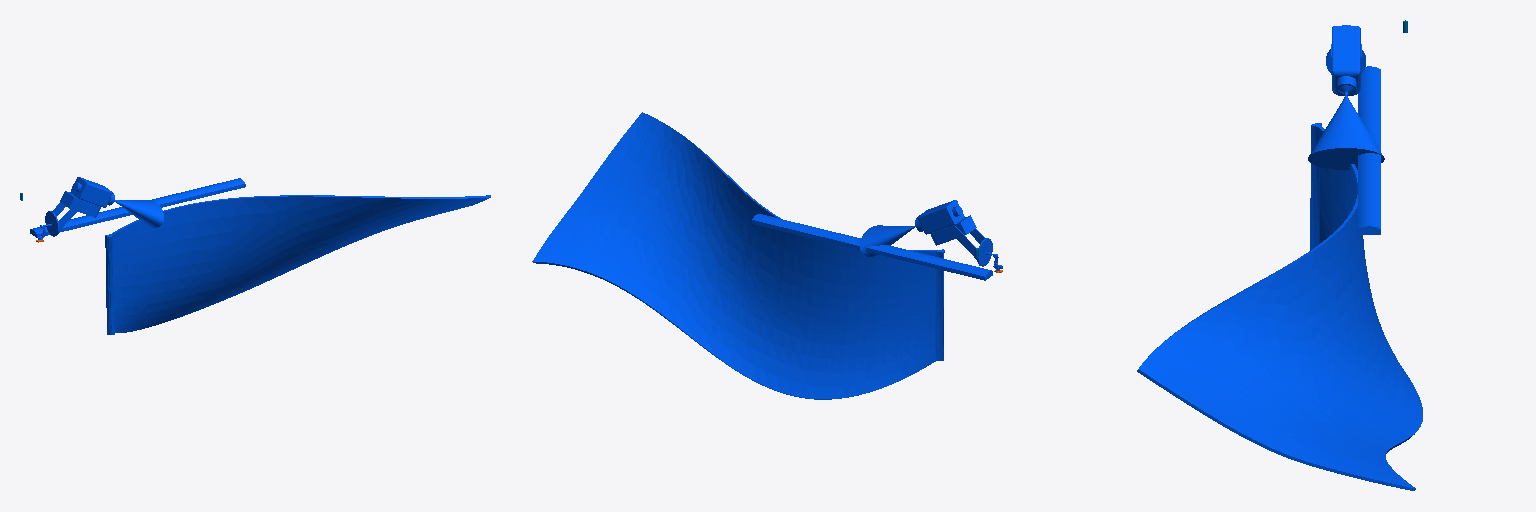
URDF robot description (combined):
<?xml version="1.0" encoding="utf-8"?>
<!-- =================================================================================== -->
<!-- |    This document was autogenerated by xacro from ur5_robot.urdf.xacro           | -->
<!-- |    EDITING THIS FILE BY HAND IS NOT RECOMMENDED                                 | -->
<!-- =================================================================================== -->
<robot name="combined">
  <!--robots pose-->
  <link name="world"/>

  <joint name="abb_6640_180_255_pose" type="fixed">
    <parent link="world"/>
    <child link="ABB_6640_180_255_base_link"/>
    <origin rpy="0.0 0.0 0.0" xyz="0 0 0.0"/><!--abb_6640_180_255 pedestal-->
  </joint>

  <joint name="abb_1200_5_90_pose" type="fixed">
    <parent link="world"/>
    <child link="abb_1200_5_90_pedestal"/>
    <origin rpy="0.0 0.0 0.0" xyz="0 5.0 5.0"/><!--abb_1200_5_90 pedestal-->
  </joint>

  <joint name="curve_1_pose" type="fixed">
    <parent link="world"/>
    <child link="curve_1_base_link"/>
    <origin rpy="0.0 0.0 0.0" xyz="0 2.0 0.0"/><!--abb_1200_5_90 pedestal-->
  </joint>
  <joint name="curve_2_pose" type="fixed">
    <parent link="world"/>
    <child link="curve_2_base_link"/>
    <origin rpy="0.0 0.0 0.0" xyz="0 -2.0 0.0"/><!--abb_1200_5_90 pedestal-->
  </joint>


  <!--curve_1 part-->
  <link name="curve_1_base_link">
    <!-- <collision>
      <origin rpy="0 0 0" xyz="-.124 0 .12"/>
      <geometry>
        <box size="1.016 .729 .24"/>
      </geometry>
    </collision> -->
    <visual name="visual">
      <geometry>
        <mesh filename="model://curve_1/meshes/wood.stl" scale="0.032 0.032 0.032"/>
      </geometry>
      <material name="orange">
        <color rgba=".04 .42 1 1"/>
      </material>
    </visual>
    <inertial>
      <origin rpy="0 0 0" xyz="0 0 .107 "/>
      <mass value="254.138"/>
      <inertia ixx="9.459" ixy="-.018" ixz="-.297" iyy="9.18" iyz=".003" izz="16.946"/>
    </inertial>
  </link>

  <!--curve_2 part-->
  <link name="curve_2_base_link">
    <!-- <collision>
      <origin rpy="0 0 0" xyz="-.124 0 .12"/>
      <geometry>
        <box size="1.016 .729 .24"/>
      </geometry>
    </collision> -->
    <visual name="visual">
      <geometry>
        <mesh filename="model://curve_2/meshes/generic_fan_blade.stl" scale="0.032 0.032 0.032"/>
      </geometry>
      <material name="orange">
        <color rgba=".04 .42 1 1"/>
      </material>
    </visual>
    <inertial>
      <origin rpy="0 0 0" xyz="0 0 .107 "/>
      <mass value="254.138"/>
      <inertia ixx="9.459" ixy="-.018" ixz="-.297" iyy="9.18" iyz=".003" izz="16.946"/>
    </inertial>
  </link>

  <!--abb_6640_180_255 part-->
  <link name="ABB_6640_180_255_base_link">
    <collision>
      <origin rpy="0 0 0" xyz="-.124 0 .12"/>
      <geometry>
        <box size="1.016 .729 .24"/>
      </geometry>
    </collision>
    <visual name="visual">
      <geometry>
        <mesh filename="model://abb_6640_180_255/meshes/visual/Base.stl"/>
      </geometry>
      <material name="orange">
        <color rgba="1 .42 .04 1"/>
      </material>
    </visual>
    <inertial>
      <origin rpy="0 0 0" xyz="0 0 .107 "/>
      <mass value="254.138"/>
      <inertia ixx="9.459" ixy="-.018" ixz="-.297" iyy="9.18" iyz=".003" izz="16.946"/>
    </inertial>
  </link>
  <link name="ABB_6640_180_255_link_1">
    <collision>
      <origin rpy="0 0 0" xyz="0 0 -.434"/>
      <geometry>
        <cylinder length=".224" radius=".309"/>
      </geometry>
    </collision>
    <collision>
      <origin rpy="1.571 0 0" xyz=".32 .302 0"/>
      <geometry>
        <cylinder length=".226" radius=".107"/>
      </geometry>
    </collision>
    <collision>
      <origin rpy="0 0 0" xyz="-.127 .127 -.215"/>
      <geometry>
        <cylinder length=".214" radius=".118"/>
      </geometry>
    </collision>
    <collision>
      <origin rpy="0 0 0" xyz="-.278 -.197 -.261"/>
      <geometry>
        <box size=".31 .528 .368"/>
      </geometry>
    </collision>
    <collision>
      <origin rpy="3.142 0 3.142" xyz="-.263 -.183 -.168"/>
      <geometry>
        <box size=".628 .387 .556"/>
      </geometry>
    </collision>
    <collision>
      <origin rpy="0 0 0" xyz=".238 .025 -.371"/>
      <geometry>
        <box size=".436 .328 .192"/>
      </geometry>
    </collision>
    <collision>
      <origin rpy="0 0 0" xyz=".32 .025 -.008"/>
      <geometry>
        <box size=".518 .328 .534"/>
      </geometry>
    </collision>
    <visual name="visual">
      <origin rpy="0 0 0" xyz="0 0 -.78"/>
      <geometry>
        <mesh filename="model://abb_6640_180_255/meshes/visual/Link1.stl"/>
      </geometry>
      <material name="orange"/>
    </visual>
    <visual name="visual2">
      <origin rpy="0 0 0" xyz="0 0 -.78"/>
      <geometry>
        <mesh filename="model://abb_6640_180_255/meshes/visual/LinkD1.stl"/>
      </geometry>
      <material name="orange"/>
    </visual>
    <inertial>
      <origin rpy="0 0 0" xyz="-.011 -.038 -.214 "/>
      <mass value="469.323"/>
      <inertia ixx="29.062" ixy="11.518" ixz="3.154" iyy="50.561" iyz="-.943" izz="46.087"/>
    </inertial>
  </link>
  <link name="ABB_6640_180_255_link_2">
    <collision>
      <origin rpy="1.571 0 0" xyz="-.015 -.295 .522"/>
      <geometry>
        <box size=".538 1.429 .311"/>
      </geometry>
    </collision>
    <collision>
      <origin rpy="1.571 0 0" xyz=".092 -.111 .22"/>
      <geometry>
        <box size=".251 .169 .058"/>
      </geometry>
    </collision>
    <visual name="visual">
      <origin rpy="0 0 0" xyz="-.32 0 -.78"/>
      <geometry>
        <mesh filename="model://abb_6640_180_255/meshes/visual/Link2.stl"/>
      </geometry>
      <material name="orange"/>
    </visual>
    <inertial>
      <origin rpy="0 0 0" xyz=".007 -.174 .441 "/>
      <mass value="153.009"/>
      <inertia ixx="37.57" ixy="-.08" ixz="-.145" iyy="37.47" iyz="-5.325" izz="3.526"/>
    </inertial>
  </link>
  <link name="ABB_6640_180_255_link_3">
    <collision>
      <origin rpy="0 1.571 0" xyz=".017 .249 .14"/>
      <geometry>
        <box size=".14 .14 .262"/>
      </geometry>
    </collision>
    <collision>
      <origin rpy="1.571 0 3.142" xyz="0 -.17 0"/>
      <geometry>
        <cylinder length=".135" radius=".238"/>
      </geometry>
    </collision>
    <collision>
      <origin rpy="1.571 0 0" xyz="0 .018 0"/>
      <geometry>
        <cylinder length=".242" radius=".118"/>
      </geometry>
    </collision>
    <collision>
      <origin rpy="0 1.571 0" xyz="-.2 .077 .19"/>
      <geometry>
        <box size=".405 .534 .171"/>
      </geometry>
    </collision>
    <collision>
      <origin rpy="0 1.571 0" xyz=".061 0 .2"/>
      <geometry>
        <cylinder length=".35" radius=".166"/>
      </geometry>
    </collision>
    <collision>
      <origin rpy="1.571 0 0" xyz="-.187 -.051 -.029"/>
      <geometry>
        <box size=".052 .085 .102"/>
      </geometry>
    </collision>
    <collision>
      <origin rpy="1.571 0 0" xyz=".178 -.051 .015"/>
      <geometry>
        <box size=".052 .109 .102"/>
      </geometry>
    </collision>
    <visual name="visual">
      <origin rpy="0 0 0" xyz="-.32 0 -1.855"/>
      <geometry>
        <mesh filename="model://abb_6640_180_255/meshes/visual/Link3.stl"/>
      </geometry>
      <material name="orange"/>
    </visual>
    <inertial>
      <origin rpy="0 0 0" xyz="-.045 .022 .139 "/>
      <mass value="212.29"/>
      <inertia ixx="6.575" ixy="-1.029" ixz="-.621" iyy="6.667" iyz=".976" izz="7.699"/>
    </inertial>
  </link>
  <link name="ABB_6640_180_255_link_4">
    <collision>
      <origin rpy="1.571 0 0" xyz="1.1425 -.139 0"/>
      <geometry>
        <cylinder length=".092" radius=".139"/>
      </geometry>
    </collision>
    <collision>
      <origin rpy="1.571 0 0" xyz="1.068 -.139 0"/>
      <geometry>
        <box size=".145 .278 .092"/>
      </geometry>
    </collision>
    <collision>
      <origin rpy="1.571 0 0" xyz="1.1425 .138 0"/>
      <geometry>
        <cylinder length=".075" radius=".139"/>
      </geometry>
    </collision>
    <collision>
      <origin rpy="0 1.571 0" xyz=".21 0 0"/>
      <geometry>
        <cylinder length=".98" radius=".122"/>
      </geometry>
    </collision>
    <collision>
      <origin rpy="1.571 0 0" xyz="1.068 .138 0"/>
      <geometry>
        <box size=".145 .278 .075"/>
      </geometry>
    </collision>
    <collision>
      <origin rpy="0 1.571 0" xyz=".83 -.005 0"/>
      <geometry>
        <box size=".278 .36 .331"/>
      </geometry>
    </collision>
    <visual name="visual">
      <origin rpy="0 0 0" xyz="-.32 0 -2.055"/>
      <geometry>
        <mesh filename="model://abb_6640_180_255/meshes/visual/Link4.stl"/>
      </geometry>
      <material name="orange"/>
    </visual>
    <inertial>
      <origin rpy="0 0 0" xyz=".606 -.008 0 "/>
      <mass value="185.22"/>
      <inertia ixx="1.744" ixy="-.722" ixz=".014" iyy="30.392" iyz="-.005" izz="31.078"/>
    </inertial>
  </link>
  <link name="ABB_6640_180_255_link_5">
    <collision>
      <origin rpy="-.697 -1.571 .697" xyz=".023 0 0"/>
      <geometry>
        <cylinder length=".307" radius=".107"/>
      </geometry>
    </collision>
    <visual name="visual">
      <origin rpy="0 0 0" xyz="-1.462 0 -2.055"/>
      <geometry>
        <mesh filename="model://abb_6640_180_255/meshes/visual/Link5.stl"/>
      </geometry>
      <material name="orange"/>
    </visual>
    <inertial>
      <origin rpy="0 0 0" xyz=".039 .001 0 "/>
      <mass value="26.117"/>
      <inertia ixx=".106" ixy="-.005" ixz="0" iyy=".207" iyz="0" izz=".218"/>
    </inertial>
  </link>
  <link name="ABB_6640_180_255_link_6">
    <collision>
      <origin rpy="0 1.571 0" xyz="-.019 0 0"/>
      <geometry>
        <cylinder length=".037" radius=".109"/>
      </geometry>
    </collision>
    <visual name="visual">
      <origin rpy="0 0 0" xyz="-1.662 0 -2.055"/>
      <geometry>
        <mesh filename="model://abb_6640_180_255/meshes/visual/Link6.stl"/>
      </geometry>
      <material name="orange"/>
    </visual>
    <inertial>
      <origin rpy="0 0 0" xyz="-.019 -.001 0 "/>
      <mass value="3.371"/>
      <inertia ixx=".017" ixy="0" ixz="0" iyy=".009" iyz="0" izz=".009"/>
    </inertial>
  </link>
  <link name="ABB_6640_180_255_tool">
    <visual name="visual">
      <origin rpy="0 0 0" xyz="0 0 0"/>
      <geometry>
        <mesh filename="model://paintgun/meshes/paint_gun.stl" scale="0.032 0.032 0.032"/>
      </geometry>
      <material name="orange"/>
    </visual>

  </link>
  <!-- end of link list -->
  <!-- joint list -->
  <joint name="ABB_6640_180_255_joint_1" type="revolute">
    <origin rpy="0 0 0" xyz="0 0 0.780"/>
    <axis xyz="0 0 1"/>
    <parent link="ABB_6640_180_255_base_link"/>
    <child link="ABB_6640_180_255_link_1"/>
    <limit effort="0" lower="-2.967" upper="2.967" velocity="1.7453"/>
  </joint>
  <joint name="ABB_6640_180_255_joint_2" type="revolute">
    <origin rpy="0 0 0" xyz="0.320 0 0"/>
    <axis xyz="0 1 0"/>
    <parent link="ABB_6640_180_255_link_1"/>
    <child link="ABB_6640_180_255_link_2"/>
    <limit effort="0" lower="-1.134" upper="1.4855" velocity="1.5707"/>
  </joint>
  <joint name="ABB_6640_180_255_joint_3" type="revolute">
    <origin rpy="0 0 0" xyz="0 0 1.075"/>
    <axis xyz="0 1 0"/>
    <parent link="ABB_6640_180_255_link_2"/>
    <child link="ABB_6640_180_255_link_3"/>
    <limit effort="0" lower="-3.142" upper="1.222" velocity="1.5707"/>
  </joint>
  <joint name="ABB_6640_180_255_joint_4" type="revolute">
    <origin rpy="0 0 0" xyz="0 0 0.2"/>
    <axis xyz="1 0 0"/>
    <parent link="ABB_6640_180_255_link_3"/>
    <child link="ABB_6640_180_255_link_4"/>
    <limit effort="0" lower="-5.236" upper="5.236" velocity="2.9671"/>
  </joint>
  <joint name="ABB_6640_180_255_joint_5" type="revolute">
    <origin rpy="0 0 0" xyz="1.1425 0 0 "/>
    <axis xyz="0 1 0"/>
    <parent link="ABB_6640_180_255_link_4"/>
    <child link="ABB_6640_180_255_link_5"/>
    <limit effort="0" lower="-2.094" upper="2.094" velocity="2.4435"/>
  </joint>
  <joint name="ABB_6640_180_255_joint_6" type="revolute">
    <origin rpy="0 0 0" xyz="0.2 0 0 "/>
    <axis xyz="1 0 0"/>
    <parent link="ABB_6640_180_255_link_5"/>
    <child link="ABB_6640_180_255_link_6"/>
    <limit effort="0" lower="-6.283" upper="6.283" velocity="3.3161"/>
  </joint>
  <joint name="joint_6-tool0" type="fixed">
    <parent link="ABB_6640_180_255_link_6"/>
    <child link="ABB_6640_180_255_tool"/>
    <origin rpy="0 1.57079632679 0" xyz="0 0 0"/>
  </joint>
  <!-- end of joint list -->


  <!--abb_1200_5_90 part-->
  <joint name="ABB_1200_5_90_joint_1" type="revolute">
    <parent link="ABB_1200_5_90_base_link"/>
    <child link="ABB_1200_5_90_link_1"/>
    <origin rpy="0 0 0" xyz="0     0     0.3991"/>
    <axis xyz="0 0 1"/>
    <limit effort="1000.0" lower="-2.967" upper="2.967" velocity="5.027"/>
  </joint>
  <joint name="ABB_1200_5_90_joint_2" type="revolute">
    <parent link="ABB_1200_5_90_link_1"/>
    <child link="ABB_1200_5_90_link_2"/>
    <origin rpy="0 0 0" xyz="0 0 0"/>
    <axis xyz="0 1 0"/>
    <limit effort="1000.0" lower="-1.745" upper="2.269" velocity="4.189"/>
  </joint>
  <joint name="ABB_1200_5_90_joint_3" type="revolute">
    <parent link="ABB_1200_5_90_link_2"/>
    <child link="ABB_1200_5_90_link_3"/>
    <origin rpy="0 0 0" xyz="0    0    0.448"/>
    <axis xyz="0 1 0"/>
    <limit effort="1000.0" lower="-3.491" upper="1.222" velocity="5.236"/>
  </joint>
  <joint name="ABB_1200_5_90_joint_4" type="revolute">
    <parent link="ABB_1200_5_90_link_3"/>
    <child link="ABB_1200_5_90_link_4"/>
    <origin rpy="0 0 0" xyz="0    0    0.042"/>
    <axis xyz="1 0 0"/>
    <limit effort="1000.0" lower="-4.712" upper="4.712" velocity="6.981"/>
  </joint>
  <joint name="ABB_1200_5_90_joint_5" type="revolute">
    <parent link="ABB_1200_5_90_link_4"/>
    <child link="ABB_1200_5_90_link_5"/>
    <origin rpy="0 0 0" xyz="0.451 0    0"/>
    <axis xyz="0 1 0"/>
    <limit effort="1000.0" lower="-2.269" upper="2.269" velocity="7.069"/>
  </joint>
  <joint name="ABB_1200_5_90_joint_6" type="revolute">
    <parent link="ABB_1200_5_90_link_5"/>
    <child link="ABB_1200_5_90_link_6"/>
    <origin rpy="0 0 0" xyz="0.082 0    0"/>
    <axis xyz="1 0 0"/>
    <limit effort="1000.0" lower="-6.283" upper="6.283" velocity="10.472"/>
  </joint>
  <joint name="abb_1200_5_90_pedestal_JOINT_0" type="fixed">
    <parent link="abb_1200_5_90_pedestal"/>
    <child link="ABB_1200_5_90_base_link"/>
    <origin rpy="0 0 0" xyz="0 0 0"/>
    <axis xyz="0 0 0"/>
    <limit effort="0" lower="0" upper="0" velocity="0"/>
  </joint>
  <link name="ABB_1200_5_90_base_link">
    <inertial>
      <mass value="13.7742"/>
      <origin rpy="0 0 0" xyz="-0.02898  0.00059  0.11273"/>
      <inertia ixx="0.101998" ixy="0.000495482" ixz="0.000311158" iyy="0.13969" iyz="-0.000245375" izz="0.130433"/>
    </inertial>
    <visual name="ABB_1200_5_90_base_link_fixed_joint_lump__visual_visual">
      <origin rpy="0 0 0" xyz="0 0 0"/>
      <geometry>
        <mesh filename="model://abb_1200_5_90/meshes/visual/base_link.dae" scale="1 1 1"/>
      </geometry>
    </visual>
  </link>
  <link name="abb_1200_5_90_pedestal">
    <inertial>
      <mass value="1"/>
      <origin rpy="0 0 0" xyz="0 0 0"/>
      <inertia ixx="0.145833" ixy="0" ixz="0" iyy="0.145833" iyz="0" izz="0.125"/>
    </inertial>
    <visual name="ABB_1200_5_90_visual">
      <origin rpy="0 0 0" xyz="0   0  -0.5"/>
      <geometry>
        <cylinder length="1.0" radius="0.2"/>
      </geometry>
    </visual>
  </link>
  <link name="ABB_1200_5_90_link_1">
    <inertial>
      <mass value="11.8419"/>
      <origin rpy="0 0 0" xyz="0.00087 -0.00063 -0.06288"/>
      <inertia ixx="0.11194" ixy="-4.54988e-05" ixz="0.000280961" iyy="0.0915159" iyz="-0.000109905" izz="0.0876456"/>
    </inertial>
    <collision name="ABB_1200_5_90_link_1_fixed_joint_lump__collision_collision">
      <origin rpy="0 0 0" xyz="0 0 0"/>
      <geometry>
        <mesh filename="model://abb_1200_5_90/meshes/collision/link_1.stl" scale="1 1 1"/>
      </geometry>
    </collision>
    <visual name="ABB_1200_5_90_link_1_fixed_joint_lump__visual_visual">
      <origin rpy="0 0 0" xyz="0 0 0"/>
      <geometry>
        <mesh filename="model://abb_1200_5_90/meshes/visual/link_1.dae" scale="1 1 1"/>
      </geometry>
    </visual>
  </link>
  <link name="ABB_1200_5_90_link_2">
    <inertial>
      <mass value="17.5394"/>
      <origin rpy="0 0 0" xyz="-0.00092 -0.00049  0.25005"/>
      <inertia ixx="0.493558" ixy="1.32136e-05" ixz="0.000209024" iyy="0.462939" iyz="-0.00179901" izz="0.0894214"/>
    </inertial>
    <collision name="ABB_1200_5_90_link_2_fixed_joint_lump__collision_collision">
      <origin rpy="0 0 0" xyz="0 0 0"/>
      <geometry>
        <mesh filename="model://abb_1200_5_90/meshes/collision/link_2.stl" scale="1 1 1"/>
      </geometry>
    </collision>
    <visual name="ABB_1200_5_90_link_2_fixed_joint_lump__visual_visual">
      <origin rpy="0 0 0" xyz="0 0 0"/>
      <geometry>
        <mesh filename="model://abb_1200_5_90/meshes/visual/link_2.dae" scale="1 1 1"/>
      </geometry>
    </visual>
  </link>
  <link name="ABB_1200_5_90_link_3">
    <inertial>
      <mass value="7.46365"/>
      <origin rpy="0 0 0" xyz="0.09958 0.00114 0.03233"/>
      <inertia ixx="0.0252424" ixy="0.000142737" ixz="-0.00565542" iyy="0.0906438" iyz="0.000142213" izz="0.0825079"/>
    </inertial>
    <collision name="ABB_1200_5_90_link_3_fixed_joint_lump__collision_collision">
      <origin rpy="0 0 0" xyz="0 0 0"/>
      <geometry>
        <mesh filename="model://abb_1200_5_90/meshes/collision/link_3.stl" scale="1 1 1"/>
      </geometry>
    </collision>
    <visual name="ABB_1200_5_90_link_3_fixed_joint_lump__visual_visual">
      <origin rpy="0 0 0" xyz="0 0 0"/>
      <geometry>
        <mesh filename="model://abb_1200_5_90/meshes/visual/link_3.dae" scale="1 1 1"/>
      </geometry>
    </visual>
  </link>
  <link name="ABB_1200_5_90_link_4">
    <inertial>
      <mass value="2.74436"/>
      <origin rpy="0 0 0" xyz="0.38167 0.00126 0.00516"/>
      <inertia ixx="0.00573099" ixy="-0.000131119" ixz="0.000380232" iyy="0.0118352" iyz="-2.26565e-05" izz="0.0114428"/>
    </inertial>
    <collision name="ABB_1200_5_90_link_4_fixed_joint_lump__collision_collision">
      <origin rpy="0 0 0" xyz="0 0 0"/>
      <geometry>
        <mesh filename="model://abb_1200_5_90/meshes/collision/link_4.stl" scale="1 1 1"/>
      </geometry>
    </collision>
    <visual name="ABB_1200_5_90_link_4_fixed_joint_lump__visual_visual">
      <origin rpy="0 0 0" xyz="0 0 0"/>
      <geometry>
        <mesh filename="model://abb_1200_5_90/meshes/visual/link_4.dae" scale="1 1 1"/>
      </geometry>
    </visual>
  </link>
  <link name="ABB_1200_5_90_link_5">
    <inertial>
      <mass value="0.62953"/>
      <origin rpy="0 0 0" xyz="0.01119 -0.00105  0.0001"/>
      <inertia ixx="0.000502815" ixy="-1.03173e-05" ixz="-8.74347e-08" iyy="0.00108856" iyz="2.07657e-07" izz="0.000918873"/>
    </inertial>
    <collision name="ABB_1200_5_90_link_5_fixed_joint_lump__collision_collision">
      <origin rpy="0 0 0" xyz="0 0 0"/>
      <geometry>
        <mesh filename="model://abb_1200_5_90/meshes/collision/link_5.stl" scale="1 1 1"/>
      </geometry>
    </collision>
    <visual name="ABB_1200_5_90_link_5_fixed_joint_lump__visual_visual">
      <origin rpy="0 0 0" xyz="0 0 0"/>
      <geometry>
        <mesh filename="model://abb_1200_5_90/meshes/visual/link_5.dae" scale="1 1 1"/>
      </geometry>
    </visual>
  </link>
  <link name="ABB_1200_5_90_link_6">
    <inertial>
      <mass value="0.137"/>
      <origin rpy="0 0 0" xyz="-0.00706 -0.00017  0"/>
      <inertia ixx="0.001" ixy="0" ixz="0" iyy="0.001" iyz="0" izz="0.001"/>
    </inertial>
    <collision name="ABB_1200_5_90_link_6_fixed_joint_lump__collision_collision">
      <origin rpy="0 0 0" xyz="0 0 0"/>
      <geometry>
        <mesh filename="model://abb_1200_5_90/meshes/collision/link_6.stl" scale="1 1 1"/>
      </geometry>
    </collision>
    <visual name="ABB_1200_5_90_link_6_fixed_joint_lump__visual_visual">
      <origin rpy="0 0 0" xyz="0 0 0"/>
      <geometry>
        <mesh filename="model://abb_1200_5_90/meshes/visual/link_6.dae" scale="1 1 1"/>
      </geometry>
    </visual>
  </link>


</robot>

--- What the picture shows (computed from the rendered views, not written in the file) ---
The picture shows the robot from 3 angles, left to right: view 1: azimuth 30°, elevation 25°; view 2: azimuth 150°, elevation 25°; view 3: azimuth 270°, elevation 25°; orthographic projection.
Model combined with 19 links and 18 joints (12 revolute, 6 fixed), rooted at world, posed all joints at 0.
Links seen in each view (by area): view 1: curve_2_base_link, ABB_6640_180_255_tool, curve_1_base_link; view 2: curve_2_base_link, ABB_6640_180_255_tool, curve_1_base_link; view 3: curve_2_base_link, ABB_6640_180_255_tool, curve_1_base_link.
Boxes of the visible links, x1,y1,x2,y2 form: curve_2_base_link: (105,195,490,334); ABB_6640_180_255_tool: (45,177,163,236); curve_1_base_link: (30,178,245,237); curve_2_base_link: (532,112,944,399); ABB_6640_180_255_tool: (860,200,992,266); curve_1_base_link: (752,214,992,280); curve_2_base_link: (1137,123,1422,490); ABB_6640_180_255_tool: (1308,25,1384,169); curve_1_base_link: (1358,66,1380,234).
Size in the robot's own frame: 61.59 by 24.24 by 27.1 metres.
11 mesh visuals loaded from 18 distinct referenced files (11 binary STL); not drawn: 7 (reference not matched to a file when rendering).